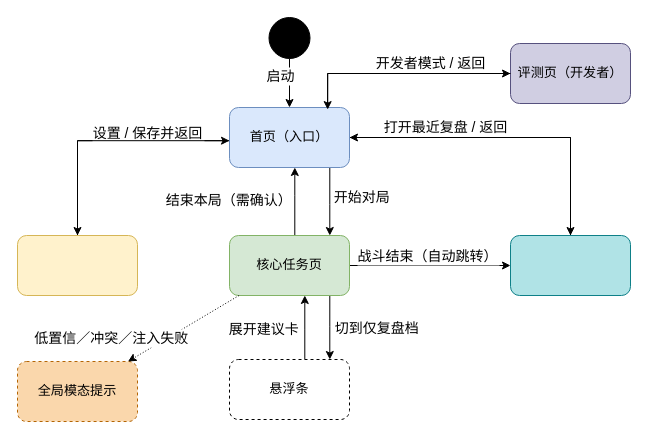
Image size: 648x439. Some labels were removed from this diagram. Here are the shapes that lost their labels. From the top down, the centre of each, then its label:
point 77,265: 设置页
point 570,265: 复盘报告页
